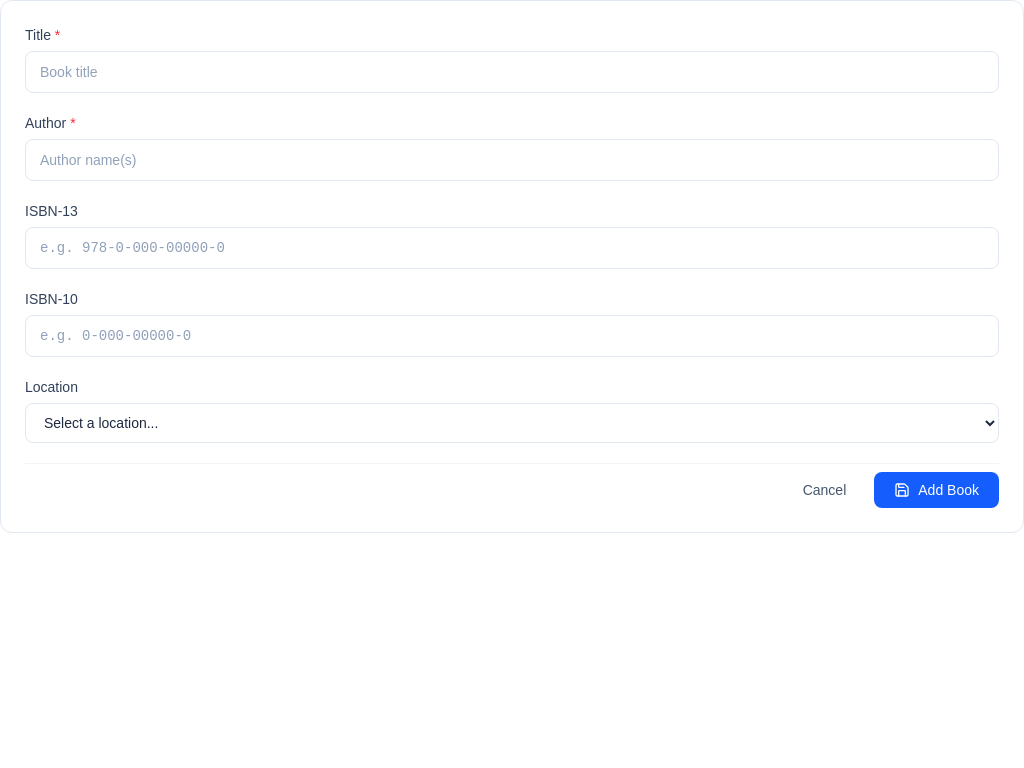
Test: BookForm — server action error › displays error message returned by server action
Type "Title" into the field with placeholder "Book title" at [512, 72], box [25,51,999,93]
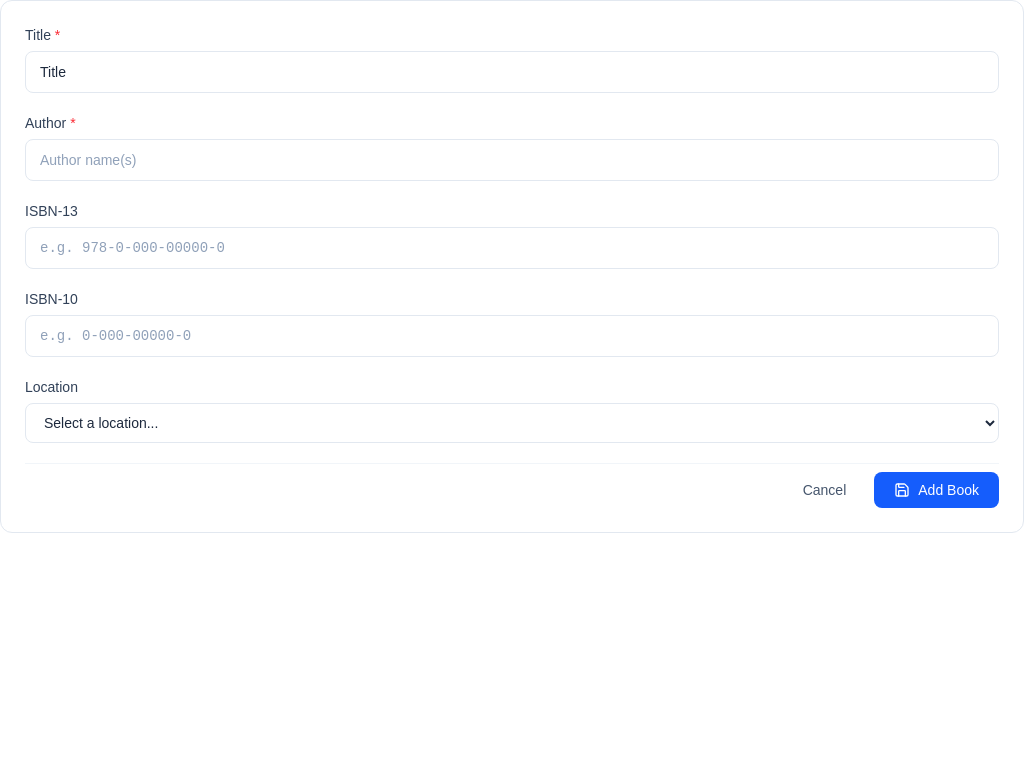
Type "Author" into the field with placeholder "Author name(s)" at [512, 160], box [25,139,999,181]
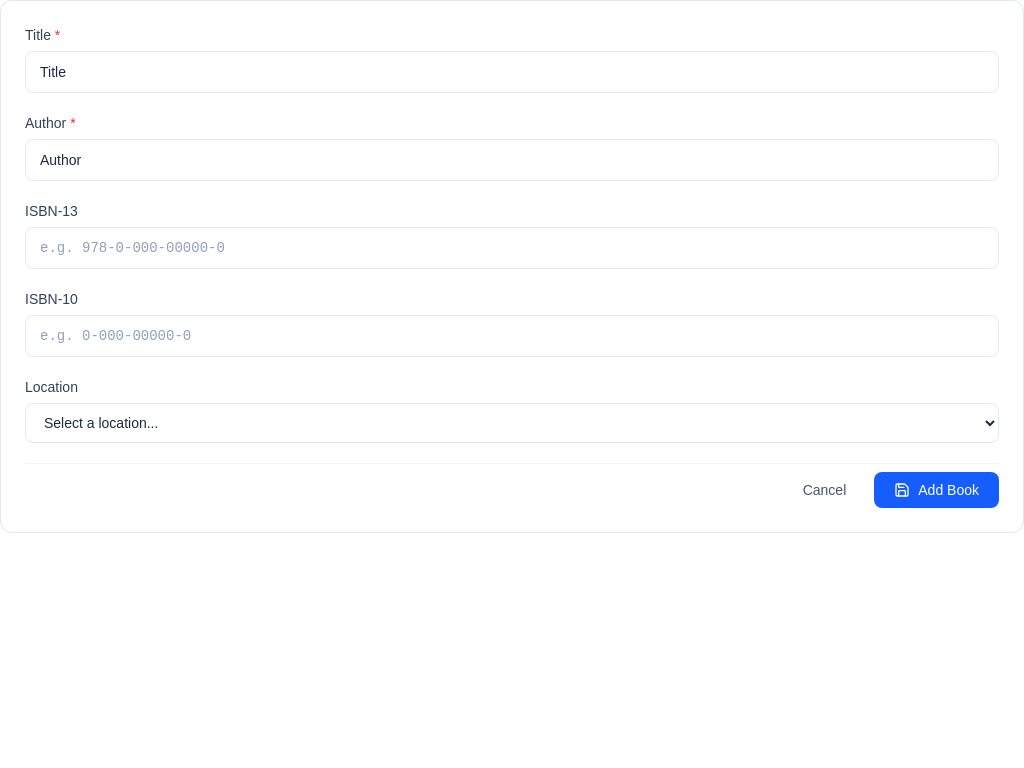
Click the button "Add Book" at [937, 490], box [874,472,999,508]
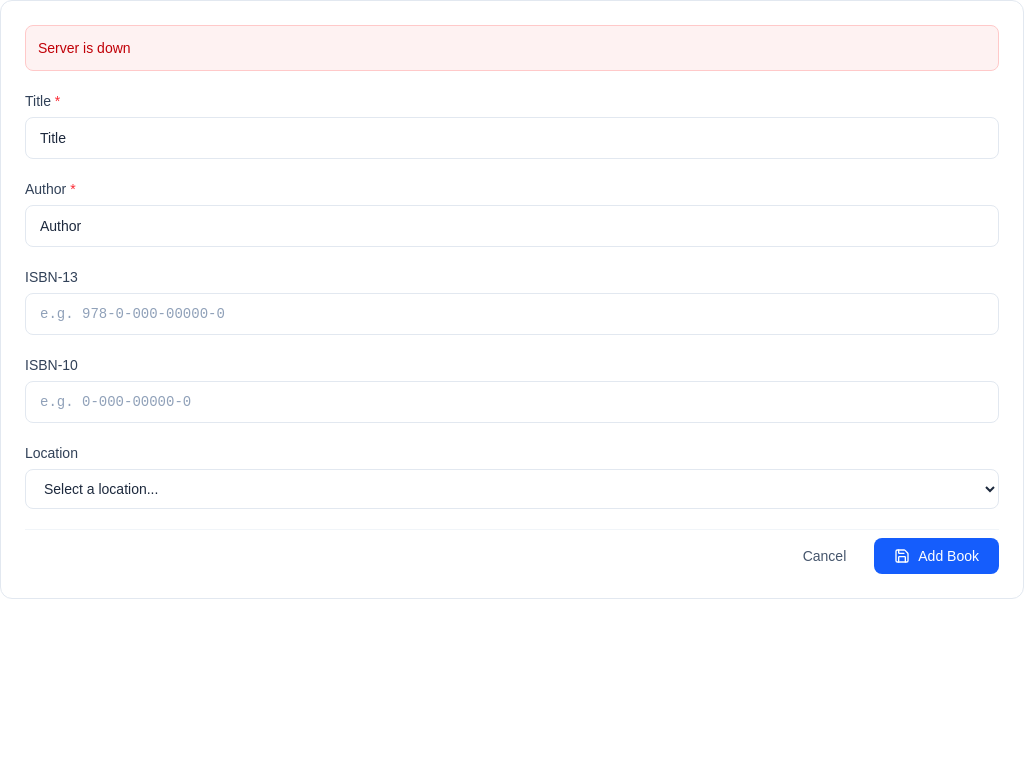
Expected: the text "Server is down" is shown, [25,25,999,71]
